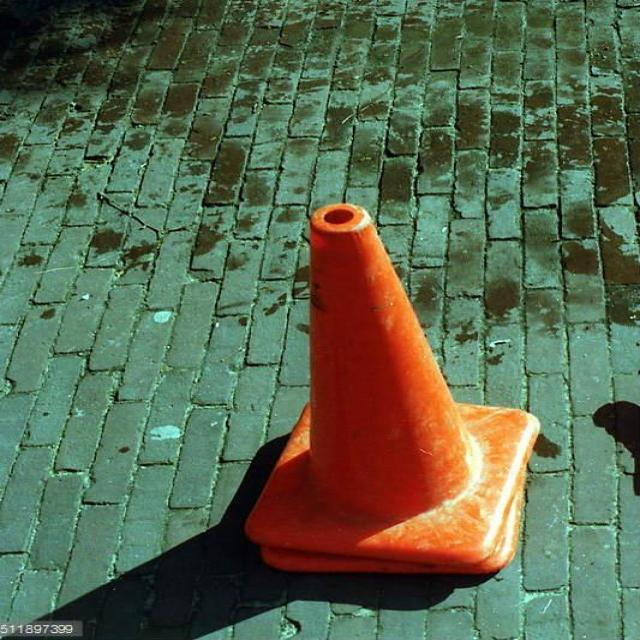Cone: (237, 200, 540, 580)
